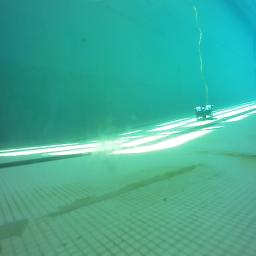front: (194, 104, 214, 120)
